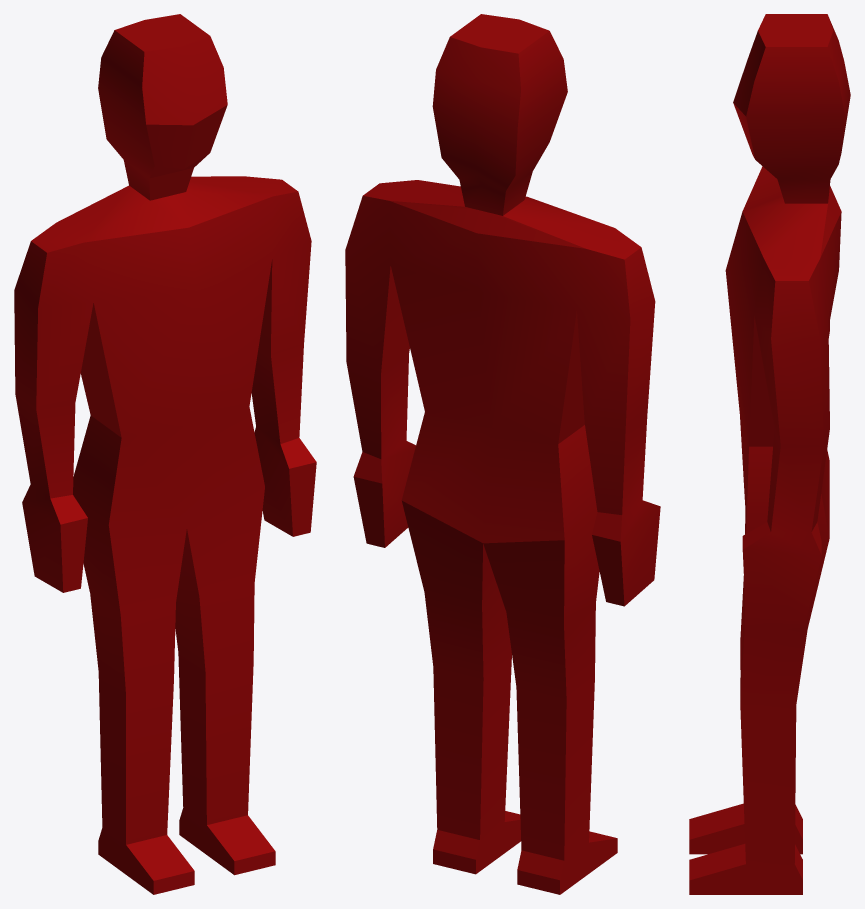
The model's file is Person.obj.
3 renders of one model, left to right at view 1: azimuth 30°, elevation 25°; view 2: azimuth 150°, elevation 25°; view 3: azimuth 270°, elevation 25°, orthographic. The views are drawn at different scales.
Visible parts, largest first — view 1: Cube.002; view 2: Cube.002; view 3: Cube.002.
Part boxes in pixels (<box>): Cube.002: <box>14,14,316,894</box>; Cube.002: <box>345,14,660,894</box>; Cube.002: <box>689,14,850,894</box>.
Size of the model in its own units: 0.6802 by 1.92 by 0.3376.
